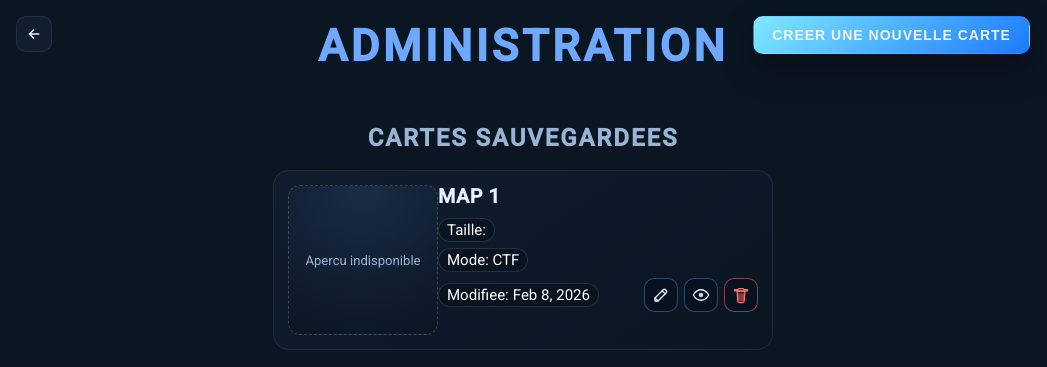
Test case: AdminPageComponent › should show an error on edit when map fetch fails
Click the button named "Modifier".
click(661, 295)  # box top-left (644, 278), bottom-right (678, 312)
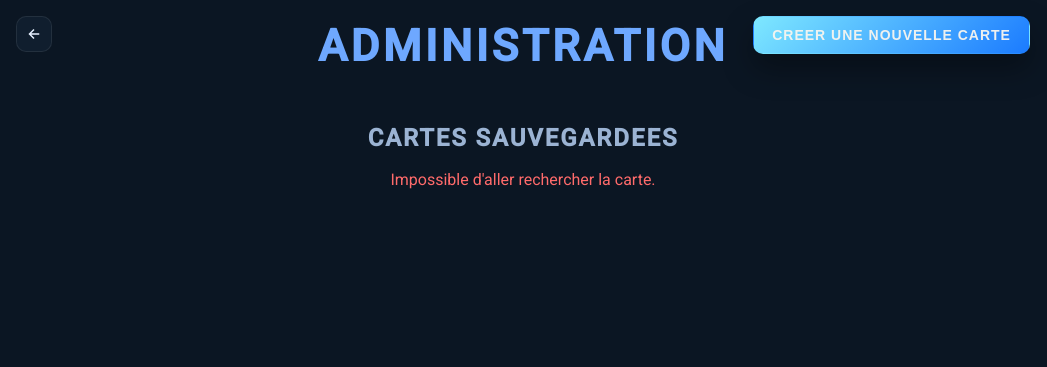
Check: the text "Impossible d'aller rechercher la carte." is shown, box top-left (390, 170), bottom-right (656, 189)
